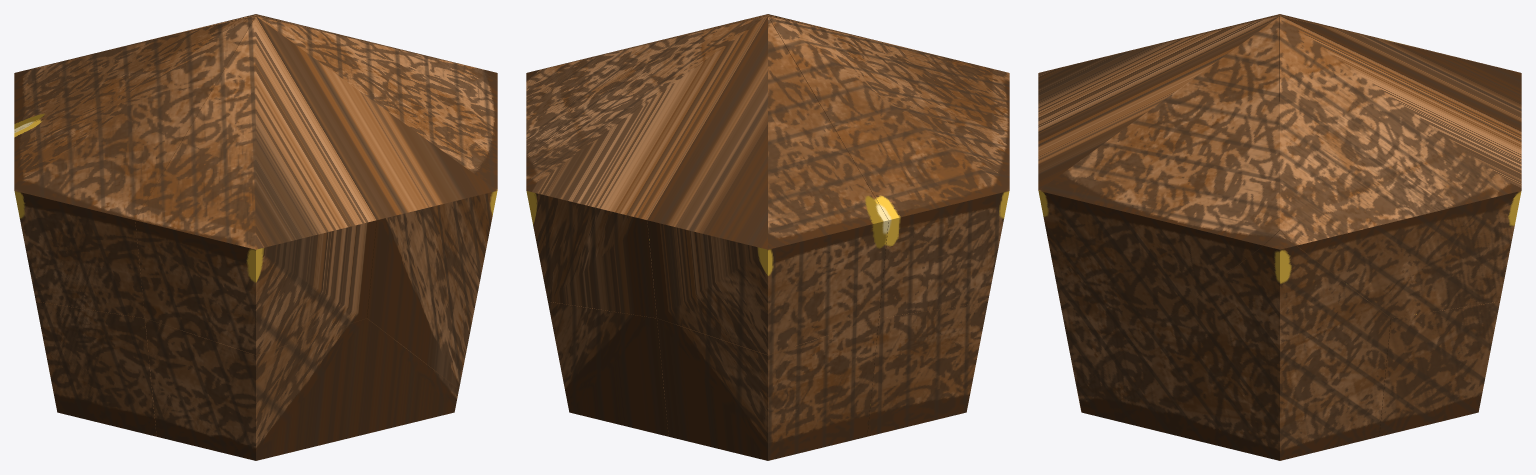
The model's file is Item1Break.fbx.
3 views of the same model, side by side, from view 1: azimuth 30°, elevation 25°; view 2: azimuth 150°, elevation 25°; view 3: azimuth 270°, elevation 25° (orthographic).
Parts seen in each view (by area): view 1: item1_cell.003, item1_cell.008, item1_cell.006, item1_cell, item1_cell.001, item1_cell.007, item1_cell.009; view 2: item1_cell.007, item1_cell.009, item1_cell.006, item1_cell.004, item1_cell.001, item1_cell.002, item1_cell.003, item1_cell.008; view 3: item1_cell.008, item1_cell.009, item1_cell.005, item1_cell.002, item1_cell.003, item1_cell.007.
Boxes of the visible parts, x1=… form: item1_cell.003: x1=135, y1=17, x2=376, y2=354; item1_cell.008: x1=256, y1=16, x2=497, y2=388; item1_cell.006: x1=14, y1=16, x2=255, y2=318; item1_cell: x1=145, y1=318, x2=458, y2=460; item1_cell.001: x1=36, y1=301, x2=156, y2=436; item1_cell.007: x1=14, y1=16, x2=254, y2=131; item1_cell.009: x1=143, y1=14, x2=477, y2=68; item1_cell.007: x1=647, y1=17, x2=888, y2=354; item1_cell.009: x1=526, y1=16, x2=767, y2=318; item1_cell.006: x1=768, y1=16, x2=1009, y2=318; item1_cell.004: x1=657, y1=318, x2=878, y2=460; item1_cell.001: x1=867, y1=301, x2=987, y2=436; item1_cell.002: x1=548, y1=301, x2=668, y2=436; item1_cell.003: x1=769, y1=16, x2=1009, y2=131; item1_cell.008: x1=546, y1=14, x2=880, y2=68; item1_cell.008: x1=1038, y1=16, x2=1279, y2=388; item1_cell.009: x1=1280, y1=16, x2=1521, y2=318; item1_cell.005: x1=1077, y1=230, x2=1390, y2=460; item1_cell.002: x1=1379, y1=301, x2=1499, y2=436; item1_cell.003: x1=1038, y1=16, x2=1278, y2=131; item1_cell.007: x1=1281, y1=16, x2=1521, y2=131.
Size of the model in its own units: 462 by 318 by 400.
